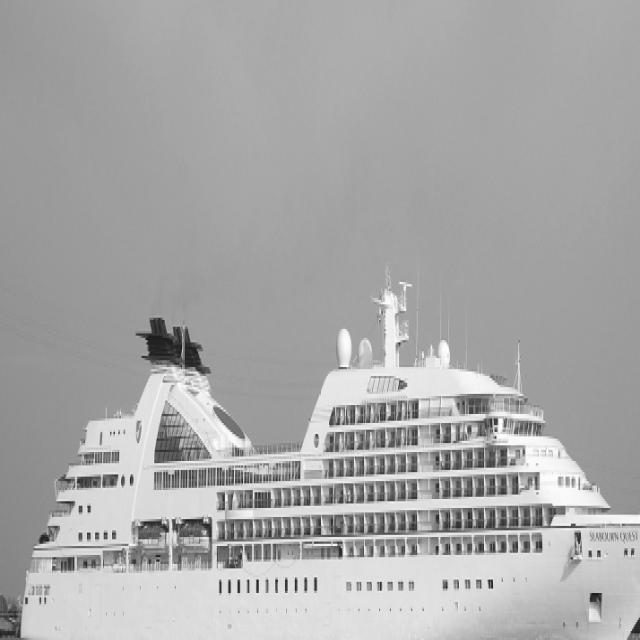cruises: (16, 263, 640, 640)
